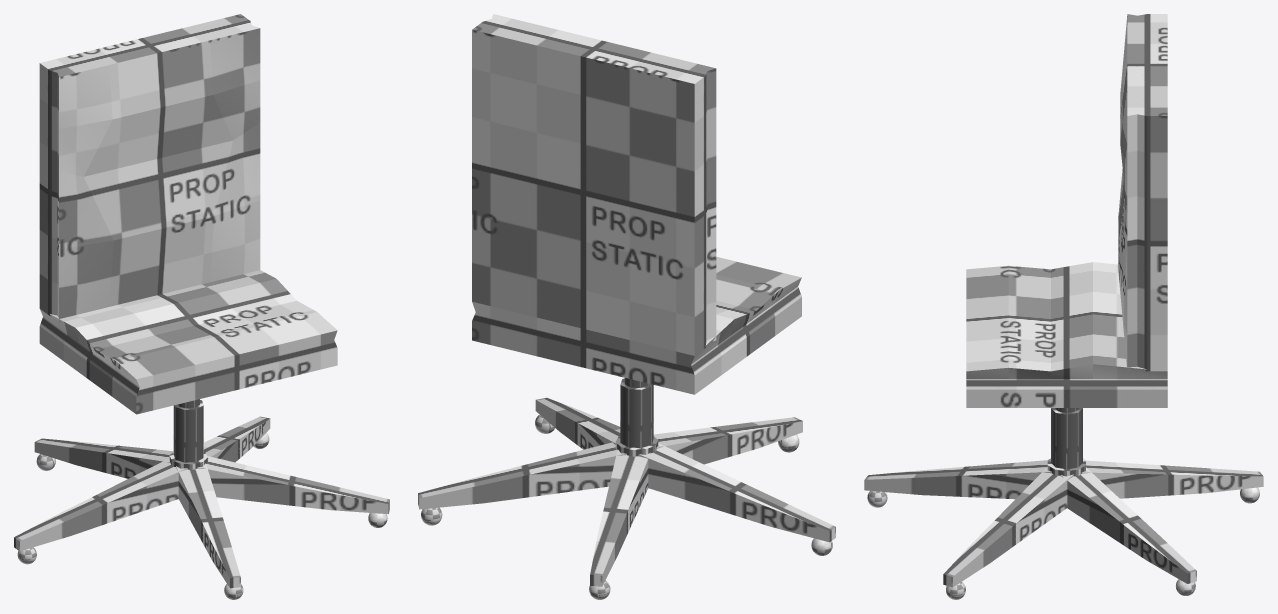
Rendered from JMB_Office_Chair.fbx.
3 views of the same model, side by side, from view 1: azimuth 30°, elevation 25°; view 2: azimuth 150°, elevation 25°; view 3: azimuth 270°, elevation 25° (orthographic). The views are drawn at different scales.
Parts seen in each view (by area): view 1: Office_Chair_Back, Office_Chair_Seat, OC_Leg__1_, OC_Leg__3_, OC_Leg__4_, OC_Leg, OC_Shaft__2_, OC_Leg__2_; view 2: Office_Chair_Back, Office_Chair_Seat, OC_Leg__1_, OC_Leg__2_, OC_Leg, OC_Leg__4_, OC_Leg__3_, OC_Shaft__2_; view 3: Office_Chair_Seat, Office_Chair_Back, OC_Leg__2_, OC_Leg__3_, OC_Leg__4_, OC_Leg, OC_Shaft__2_.
Part boxes in pixels (x1=…): Office_Chair_Back: x1=39, y1=14, x2=260, y2=322; Office_Chair_Seat: x1=39, y1=270, x2=337, y2=414; OC_Leg__1_: x1=14, y1=458, x2=187, y2=551; OC_Leg__3_: x1=197, y1=456, x2=389, y2=514; OC_Leg__4_: x1=176, y1=463, x2=240, y2=588; OC_Leg: x1=34, y1=438, x2=173, y2=478; OC_Shaft__2_: x1=173, y1=400, x2=203, y2=462; OC_Leg__2_: x1=203, y1=416, x2=270, y2=462; Office_Chair_Back: x1=472, y1=14, x2=716, y2=355; Office_Chair_Seat: x1=472, y1=256, x2=801, y2=394; OC_Leg__1_: x1=638, y1=443, x2=835, y2=542; OC_Leg__2_: x1=418, y1=442, x2=626, y2=509; OC_Leg: x1=590, y1=449, x2=650, y2=586; OC_Leg__4_: x1=653, y1=417, x2=802, y2=464; OC_Leg__3_: x1=535, y1=397, x2=620, y2=449; OC_Shaft__2_: x1=620, y1=378, x2=653, y2=447; Office_Chair_Seat: x1=966, y1=262, x2=1167, y2=407; Office_Chair_Back: x1=1118, y1=14, x2=1167, y2=371; OC_Leg__2_: x1=1060, y1=467, x2=1196, y2=583; OC_Leg__3_: x1=943, y1=467, x2=1073, y2=587; OC_Leg__4_: x1=864, y1=460, x2=1051, y2=499; OC_Leg: x1=1081, y1=460, x2=1263, y2=498; OC_Shaft__2_: x1=1051, y1=408, x2=1082, y2=469.
Size of the model in its own units: 95.66 by 127 by 99.12.
